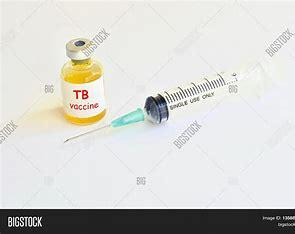Syringe: (60, 66, 244, 160), (56, 35, 110, 126)
